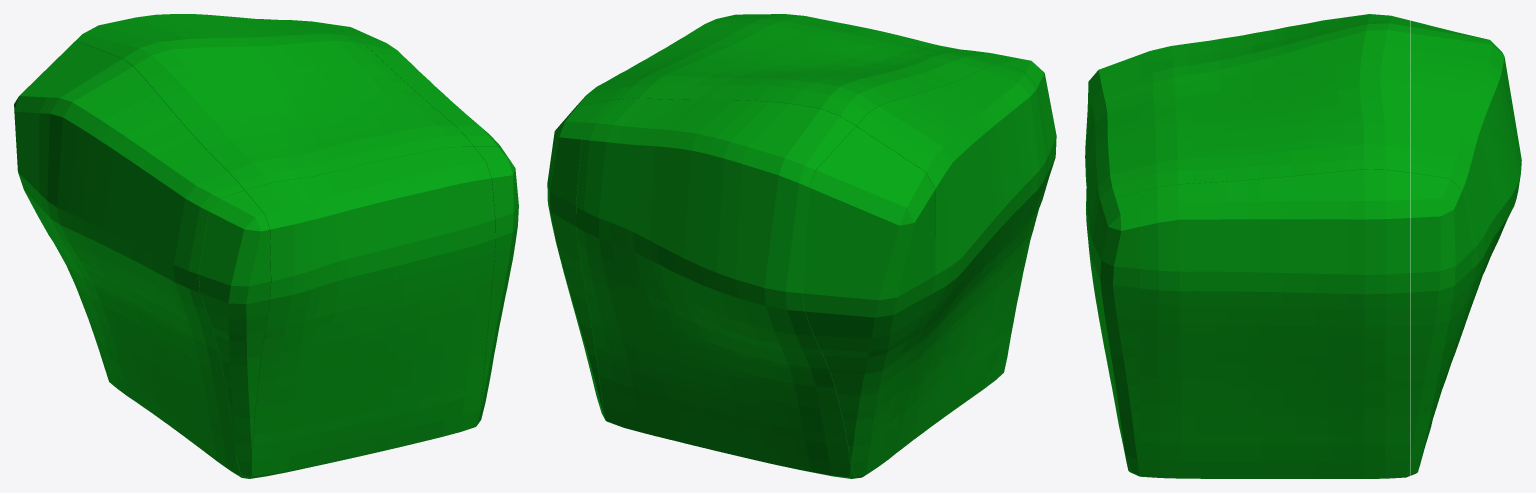
Rendered from 4by10beveledsubdivided.031.fbx.
3 renders of one model, left to right at view 1: azimuth 30°, elevation 25°; view 2: azimuth 150°, elevation 25°; view 3: azimuth 270°, elevation 25°, orthographic. The views are drawn at different scales.
Visible parts, largest first — view 1: 4by10beveledsubdivided.031; view 2: 4by10beveledsubdivided.031; view 3: 4by10beveledsubdivided.031.
Boxes of the visible parts, x1,y1,x2,y2 form: 4by10beveledsubdivided.031: (14, 14, 518, 478); 4by10beveledsubdivided.031: (547, 14, 1056, 478); 4by10beveledsubdivided.031: (1085, 14, 1521, 478).
Bounding box in the file's own units: 312 × 284 × 324.
